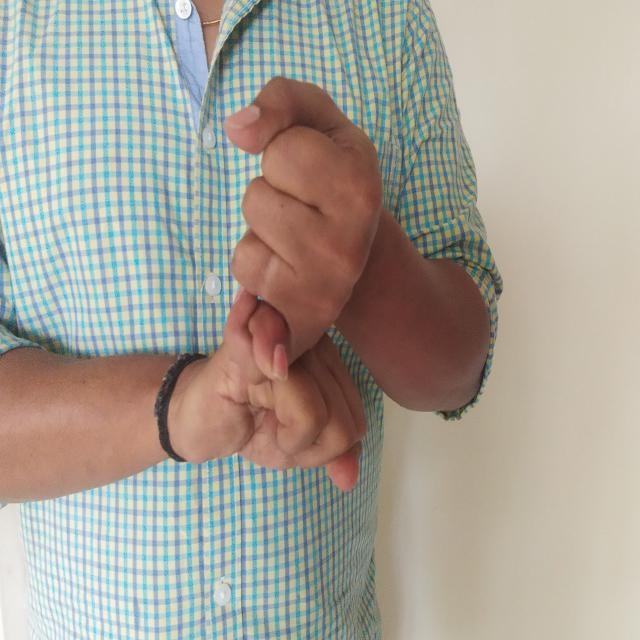S: (148, 70, 418, 499)
